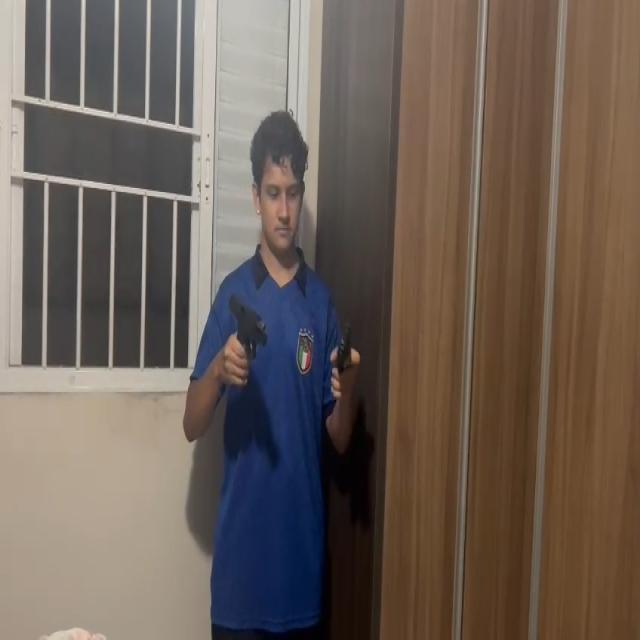gun: (230, 296, 267, 355), (337, 323, 355, 362)
